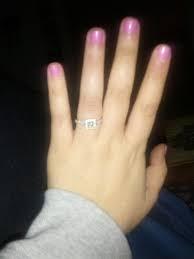hand: (22, 12, 177, 230)
